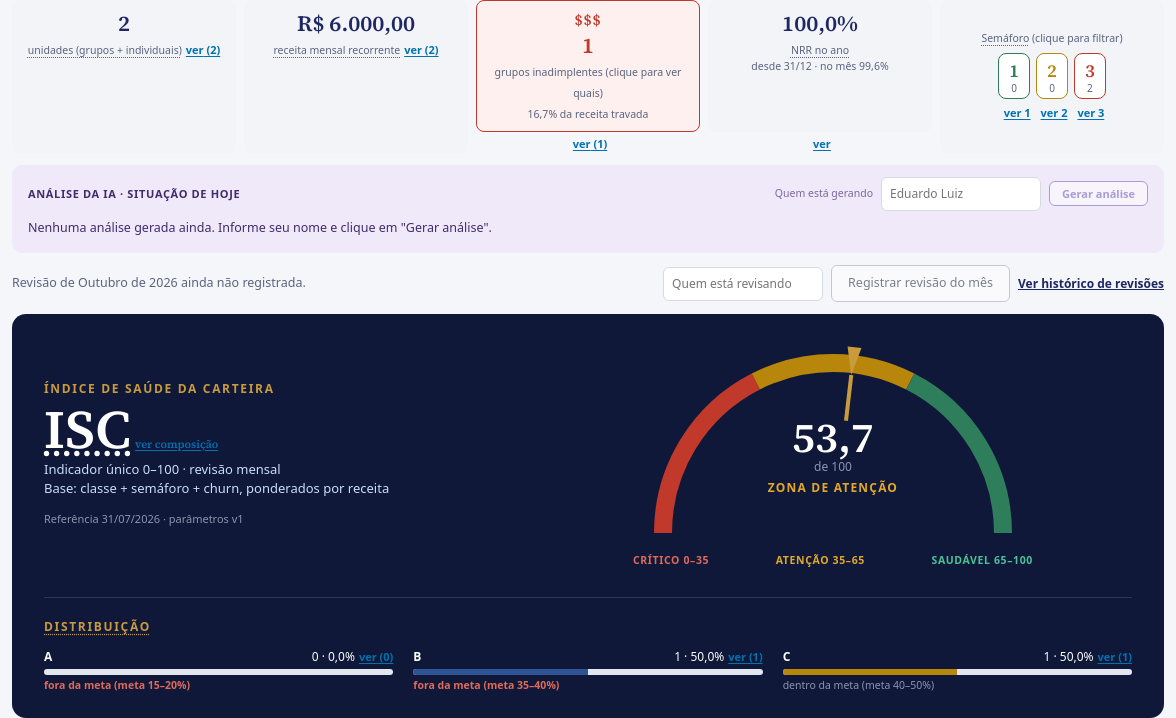
Test case: Carteira › chip de inadimplentes indica com aria-pressed quando está ativo, e desliga ao clicar de novo
Click the button "grupos inadimplentes": (588, 66) [476,0,700,132]
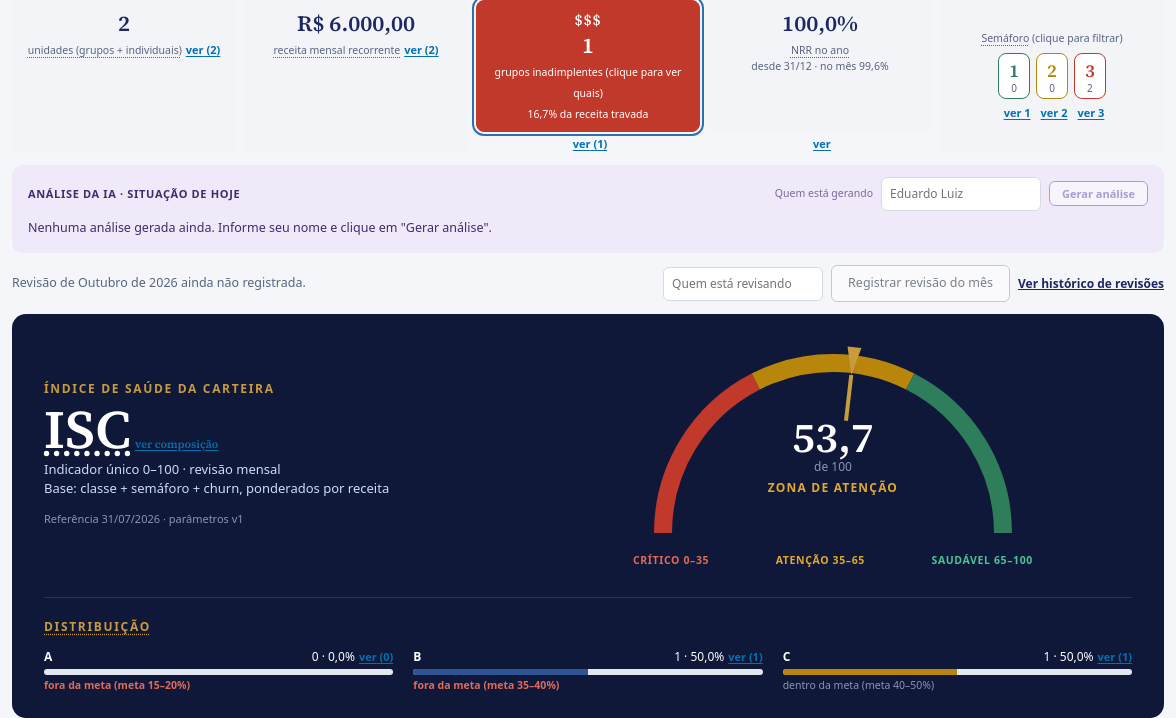
Expected: the text "▸ Beta" is not shown
Now the button "grupos inadimplentes" is pressed
Click the button "grupos inadimplentes": (588, 66) [476,0,700,132]
(page scrolled)
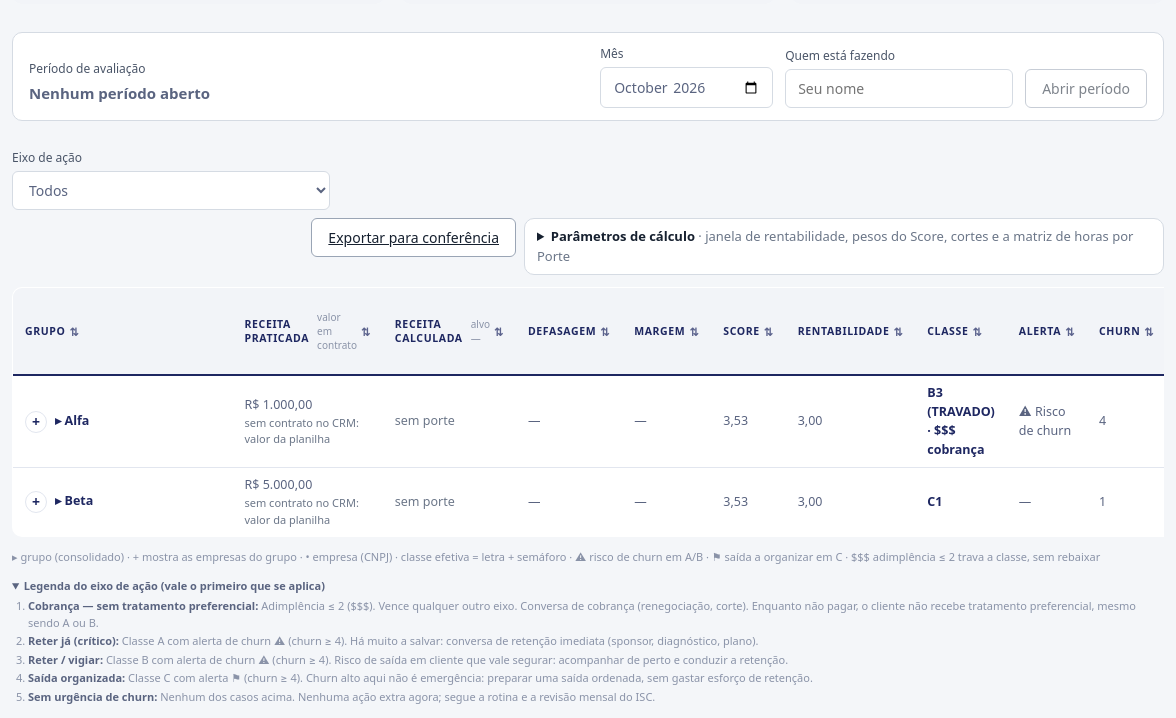
Now the text "+ ▸ Beta" is shown, box [12,468,232,537]
